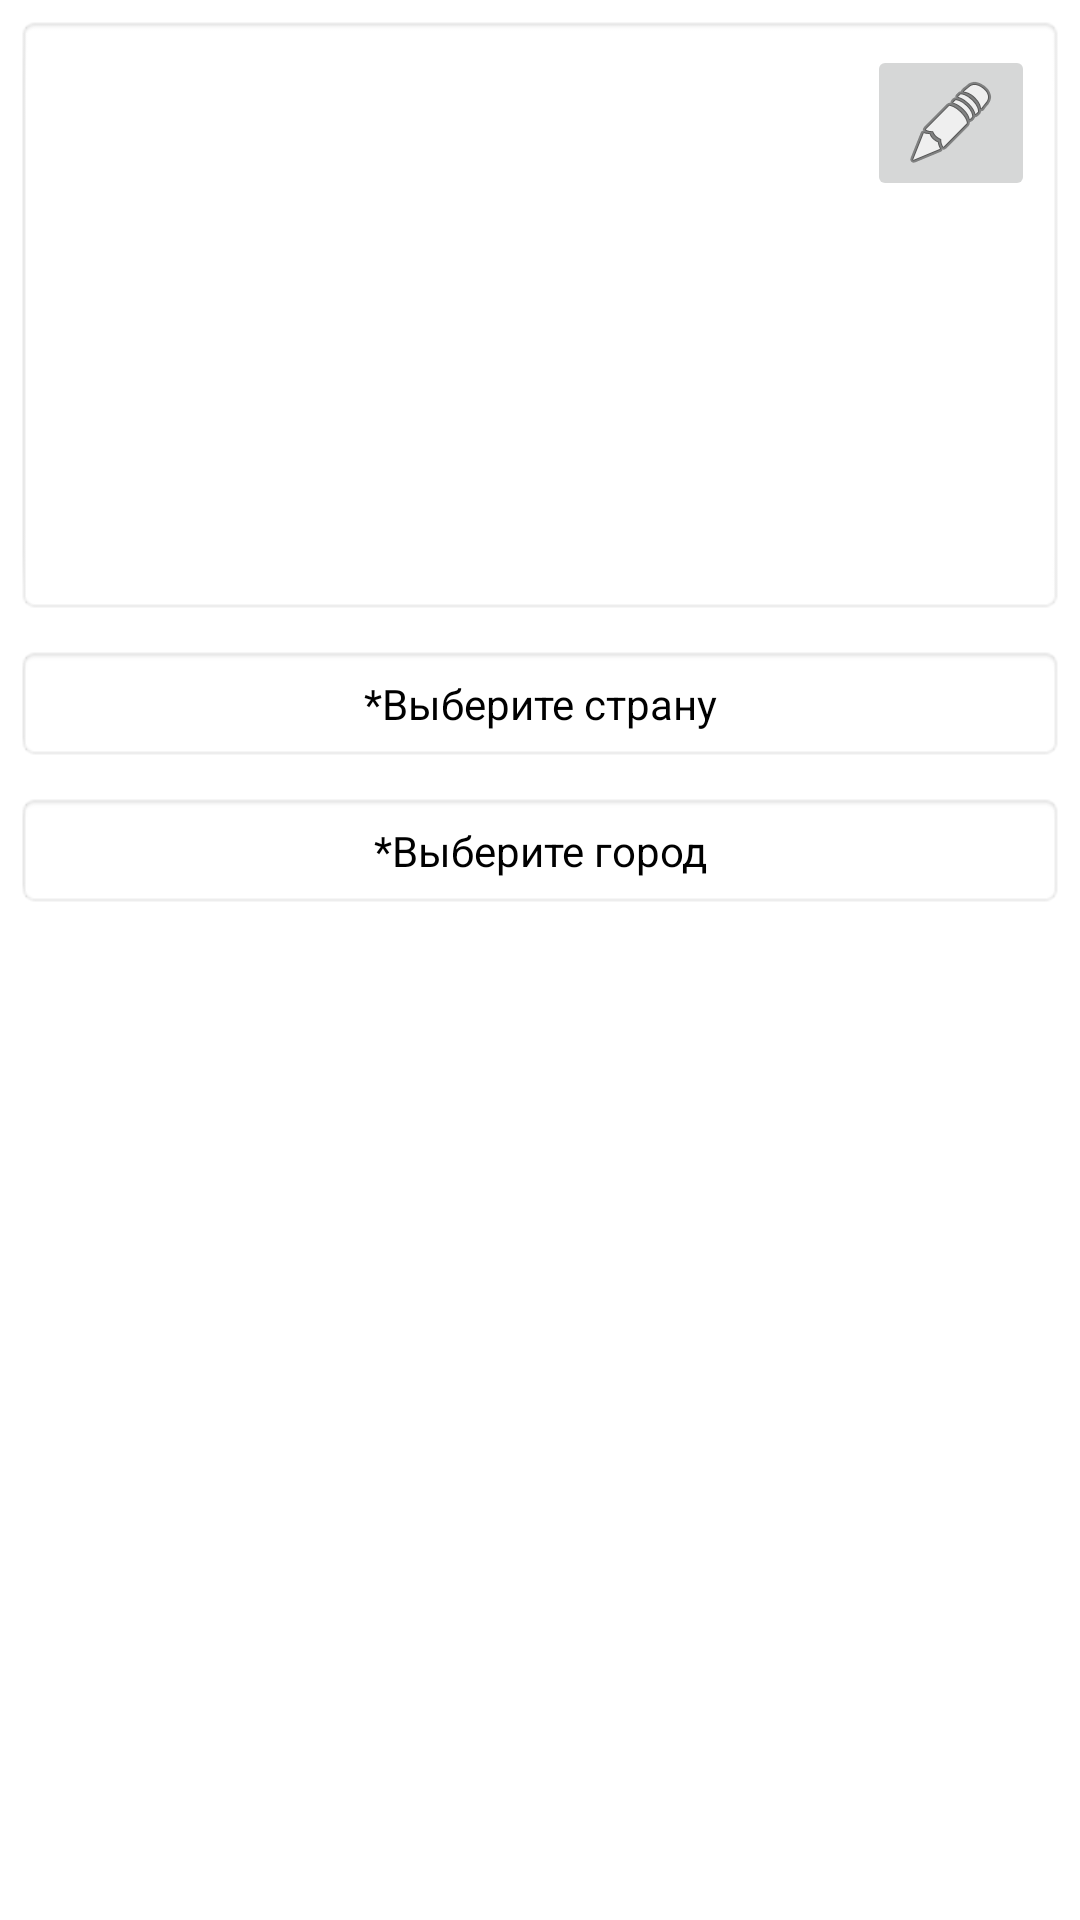

Icon bounding boxes for this 1080 x 1920 phone screenshot, format (x1, y1, x2, y2):
edit: (879, 63, 1023, 183)
